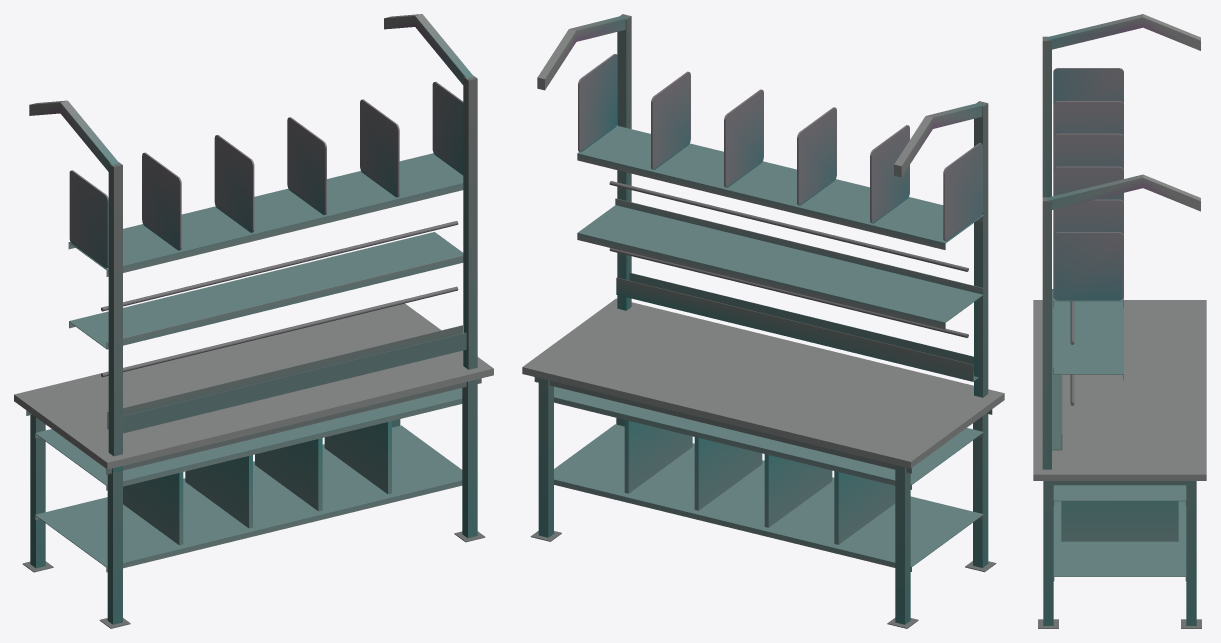
Rendered from simready-table_metal_a02.glb.
The picture shows the model from 3 angles, left to right: view 1: azimuth 30°, elevation 25°; view 2: azimuth 150°, elevation 25°; view 3: azimuth 270°, elevation 25°; orthographic projection. The views are drawn at different scales.
Visible parts, largest first — view 1: work_surface, bottom_shelf, middle_pan, upper_pan, channel_side.001, cubby_ceiling, upright.001, upright, top_divider.003, channel_side.002, lower_divider.003, lower_divider.002 (+19 smaller); view 2: work_surface, bottom_shelf, middle_pan, upper_pan, channel_side.002, cubby_ceiling, upright.001, lower_divider.004, lower_divider.003, lower_divider.002, channel_side.001, top_divider.006 (+20 smaller); view 3: work_surface, bottom_shelf, middle_pan, top_divider.006, lower_divider.004, upright, top_divider.003, top_divider.001, top_divider.002, cubby_ceiling, top_divider.005, overhead_arm.001 (+7 smaller).
Part boxes in pixels (x1=…): work_surface: x1=14, y1=300, x2=493, y2=469; bottom_shelf: x1=35, y1=425, x2=462, y2=567; middle_pan: x1=69, y1=232, x2=463, y2=349; upper_pan: x1=69, y1=153, x2=463, y2=270; channel_side.001: x1=123, y1=332, x2=466, y2=433; cubby_ceiling: x1=35, y1=388, x2=462, y2=485; upright.001: x1=108, y1=162, x2=122, y2=456; upright: x1=463, y1=75, x2=477, y2=369; top_divider.003: x1=214, y1=135, x2=254, y2=232; channel_side.002: x1=107, y1=325, x2=462, y2=428; lower_divider.003: x1=255, y1=438, x2=322, y2=511; lower_divider.002: x1=185, y1=455, x2=252, y2=528; work_surface: x1=522, y1=298, x2=1004, y2=468; bottom_shelf: x1=554, y1=424, x2=983, y2=566; middle_pan: x1=578, y1=205, x2=983, y2=322; upper_pan: x1=577, y1=125, x2=983, y2=243; channel_side.002: x1=616, y1=277, x2=973, y2=381; cubby_ceiling: x1=554, y1=386, x2=983, y2=484; upright.001: x1=974, y1=101, x2=988, y2=397; lower_divider.004: x1=624, y1=420, x2=692, y2=493; lower_divider.003: x1=694, y1=437, x2=762, y2=510; lower_divider.002: x1=764, y1=454, x2=832, y2=527; channel_side.001: x1=629, y1=272, x2=973, y2=372; top_divider.006: x1=578, y1=54, x2=617, y2=152; work_surface: x1=1033, y1=300, x2=1206, y2=480; bottom_shelf: x1=1053, y1=501, x2=1186, y2=576; middle_pan: x1=1054, y1=301, x2=1123, y2=374; top_divider.006: x1=1053, y1=232, x2=1123, y2=300; lower_divider.004: x1=1061, y1=501, x2=1178, y2=541; upright: x1=1042, y1=197, x2=1051, y2=469; top_divider.003: x1=1053, y1=133, x2=1123, y2=169; top_divider.001: x1=1053, y1=68, x2=1123, y2=103; top_divider.002: x1=1053, y1=101, x2=1123, y2=136; cubby_ceiling: x1=1053, y1=485, x2=1186, y2=501; top_divider.005: x1=1053, y1=199, x2=1123, y2=235; overhead_arm.001: x1=1047, y1=14, x2=1200, y2=50.
Size of the model in its own units: 2.07 by 2.48 by 0.8669.
